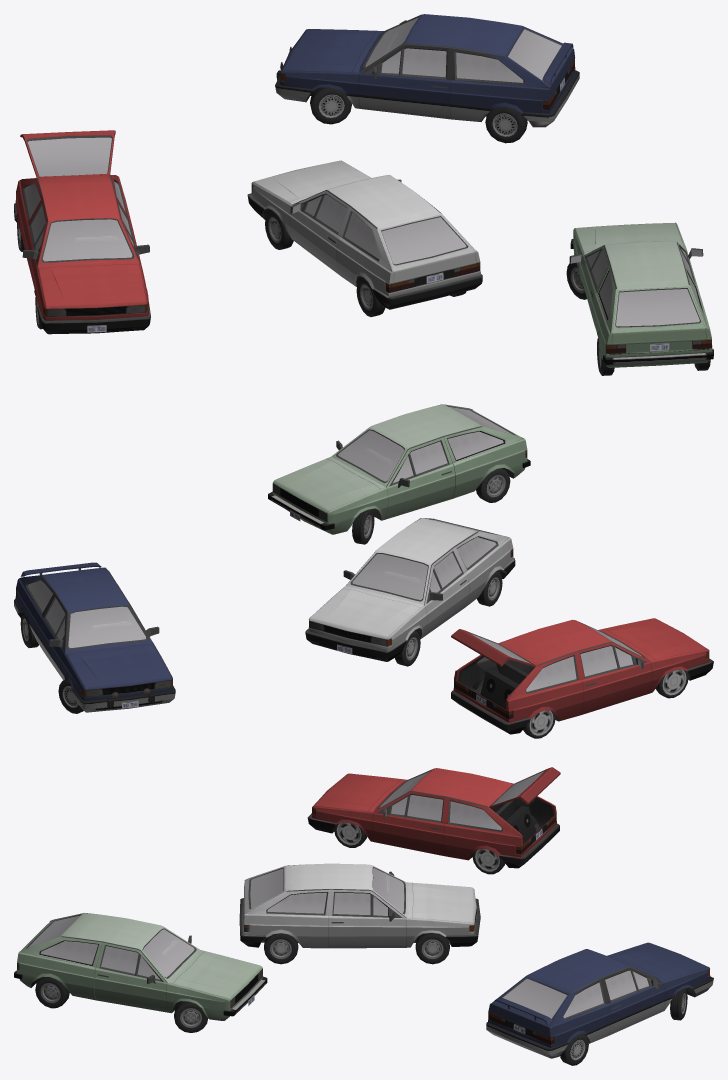
3 views of the same model, one above another, from view 1: azimuth 30°, elevation 25°; view 2: azimuth 150°, elevation 25°; view 3: azimuth 270°, elevation 25° (orthographic). The views are drawn at different scales.
Visible parts, largest first — view 1: Object_12, Object_9, Object_11, Object_6, Object_2, Object_8, Object_5, Object_3, Object_13, Object_4, Object_7; view 2: Object_8, Object_5, Object_3, Object_6, Object_11, Object_2, Object_12, Object_9, Object_7, Object_10, Object_4, Object_13; view 3: Object_3, Object_11, Object_8, Object_6, Object_2, Object_9, Object_5, Object_12, Object_4, Object_7, Object_10, Object_13.
Part boxes in pixels (x1,y1,x2,y2): Object_12: (280,17,573,117); Object_9: (20,130,149,309); Object_11: (275,14,579,127); Object_6: (253,160,475,283); Object_2: (247,175,482,309); Object_8: (14,175,150,334); Object_5: (569,222,706,344); Object_3: (570,223,713,367); Object_13: (310,87,527,143); Object_4: (265,210,466,316); Object_7: (566,262,710,375); Object_8: (451,619,713,734); Object_5: (273,405,518,517); Object_3: (268,404,530,534); Object_6: (309,518,500,639); Object_11: (14,567,175,712); Object_2: (305,518,515,661); Object_12: (20,562,172,690); Object_9: (451,618,707,691); Object_7: (352,468,510,544); Object_10: (472,669,688,738); Object_4: (395,571,502,666); Object_13: (20,613,83,713); Object_3: (14,913,267,1020); Object_11: (486,949,713,1058); Object_8: (307,768,559,868); Object_6: (244,866,476,946); Object_2: (239,863,480,948); Object_9: (313,767,560,854); Object_5: (21,913,262,1000); Object_12: (491,942,708,1036); Object_4: (264,933,449,964); Object_7: (35,977,207,1032); Object_10: (334,812,537,874); Object_13: (560,988,687,1065).
Size of the model in its own units: 0.1458 by 0.0224 by 0.1622.
12 materials, 12 textured.
